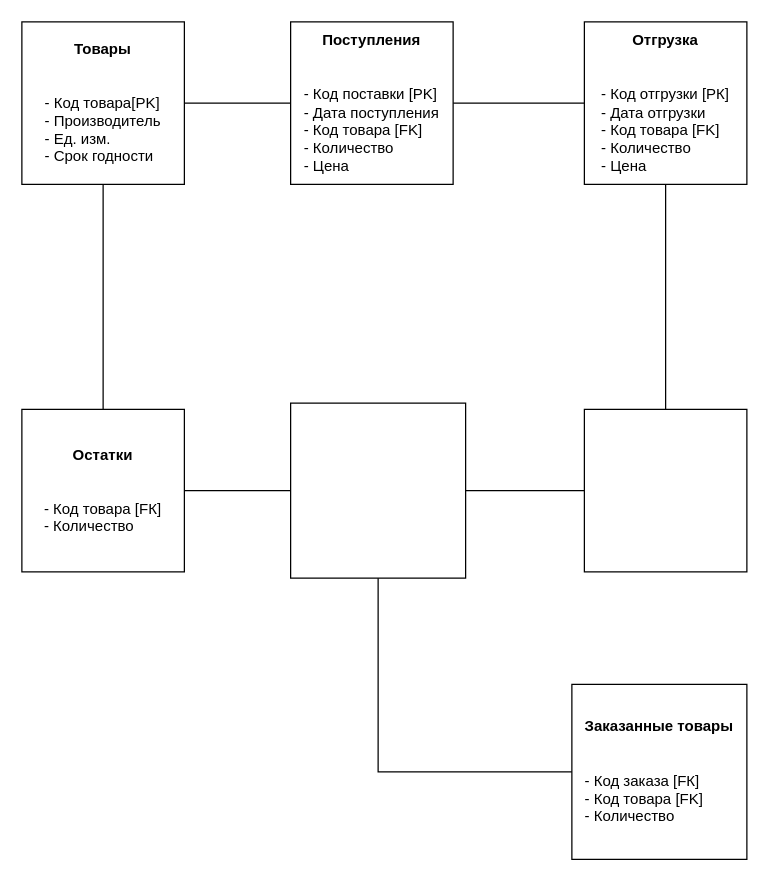
Some shapes in this 769 by 881 pixel diagram are drawn without their labels. The shapes that lost their labels are listed below. From the top down, each one's box as (x1, y1, x2, y2) in pixels, then its label:
(289, 402, 466, 578): Клиенты - Код клиента [РК] - Фамилия - Имя - Отчество - Адрес - Номер телефона
(583, 408, 747, 572): Заказы - Код заказа [РК] - Дата заказа - Код клиента [FK]
